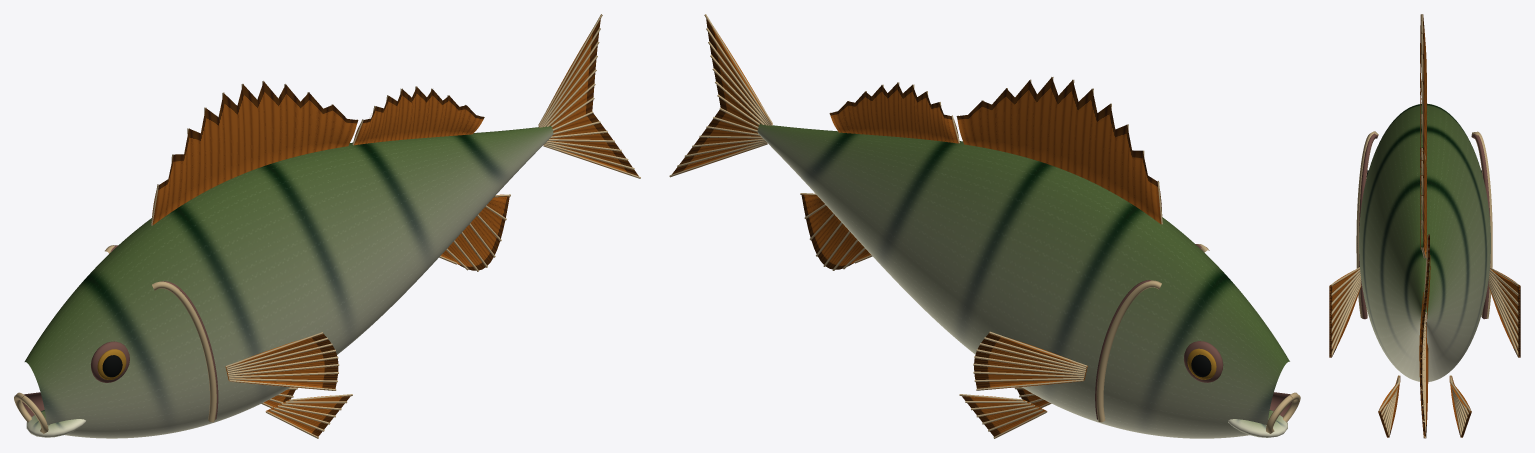
Rendered from cragfin.glb.
3 renders of one model, left to right at view 1: azimuth 30°, elevation 25°; view 2: azimuth 150°, elevation 25°; view 3: azimuth 270°, elevation 25°, orthographic. The views are drawn at different scales.
Parts seen in each view (by area): view 1: Scaled gold barred perch skin, Fin web orange and ochre, Fin rays and lip edges, Deep oral cavity; view 2: Scaled gold barred perch skin, Fin web orange and ochre, Fin rays and lip edges, Deep oral cavity; view 3: Scaled gold barred perch skin, Fin rays and lip edges, Fin web orange and ochre, Deep oral cavity.
Boxes of the visible parts, x1,y1,x2,y2 form: Scaled gold barred perch skin: [24, 126, 553, 438]; Fin web orange and ochre: [152, 18, 638, 437]; Fin rays and lip edges: [14, 14, 640, 438]; Deep oral cavity: [21, 245, 218, 425]; Scaled gold barred perch skin: [757, 124, 1289, 438]; Fin web orange and ochre: [672, 16, 1162, 436]; Fin rays and lip edges: [669, 14, 1300, 438]; Deep oral cavity: [1095, 244, 1292, 425]; Scaled gold barred perch skin: [1359, 103, 1490, 381]; Fin rays and lip edges: [1331, 14, 1518, 437]; Fin web orange and ochre: [1329, 14, 1520, 438]; Deep oral cavity: [1359, 133, 1490, 319].
Bounding box in the file's own units: 0.7764 × 0.4296 × 0.1924.
6 materials, 2 textured.
